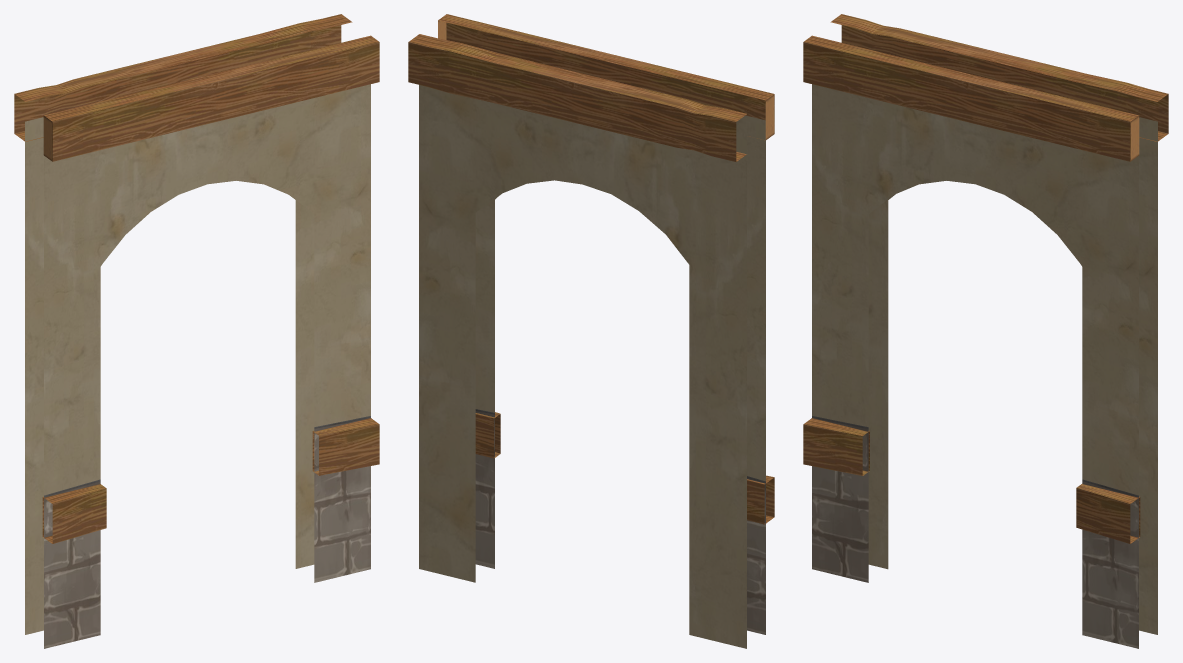
Rendered from Wall_Plaster_Door_Round.glb.
The picture shows the model from 3 angles, left to right: view 1: azimuth 30°, elevation 25°; view 2: azimuth 150°, elevation 25°; view 3: azimuth 330°, elevation 25°; orthographic projection.
Parts seen in each view (by area): view 1: Wall_Plaster_Door_Round; view 2: Wall_Plaster_Door_Round; view 3: Wall_Plaster_Door_Round.
Boxes of the visible parts, x1,y1,x2,y2 form: Wall_Plaster_Door_Round: (14,14,379,648); Wall_Plaster_Door_Round: (408,14,774,648); Wall_Plaster_Door_Round: (803,14,1168,648).
Bounding box in the file's own units: 2 × 3.12 × 0.4065.
Materials: 3 (3 with a texture image).
